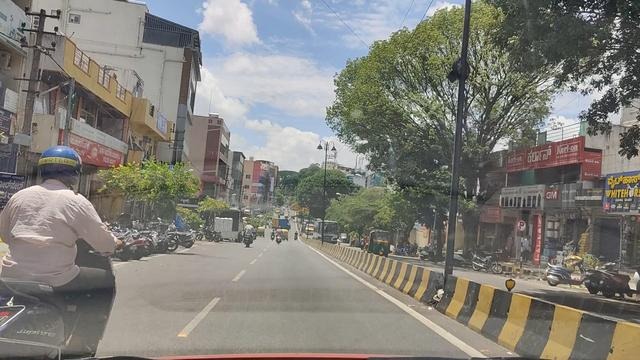LMV: (2, 144, 124, 360)
